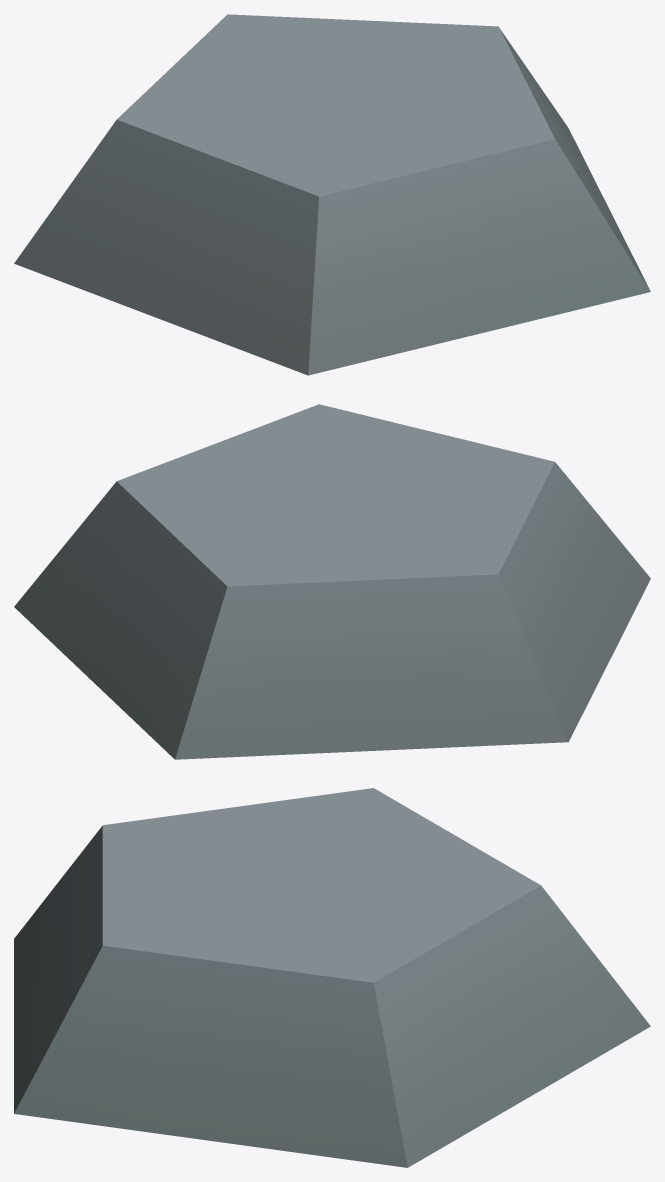
The model's file is rock_a.glb.
The picture shows the model from 3 angles, top to bottom: view 1: azimuth 30°, elevation 25°; view 2: azimuth 150°, elevation 25°; view 3: azimuth 270°, elevation 25°; orthographic projection. The views are drawn at different scales.
Visible parts, largest first — view 1: rock_single_A; view 2: rock_single_A; view 3: rock_single_A.
Part boxes in pixels (left/top/right/bottom): rock_single_A: left=14, top=14, right=650, bottom=375; rock_single_A: left=14, top=404, right=650, bottom=759; rock_single_A: left=14, top=788, right=650, bottom=1167.
Size of the model in its own units: 0.2982 by 0.0693 by 0.2836.
Materials: 1 (1 with a texture image).
